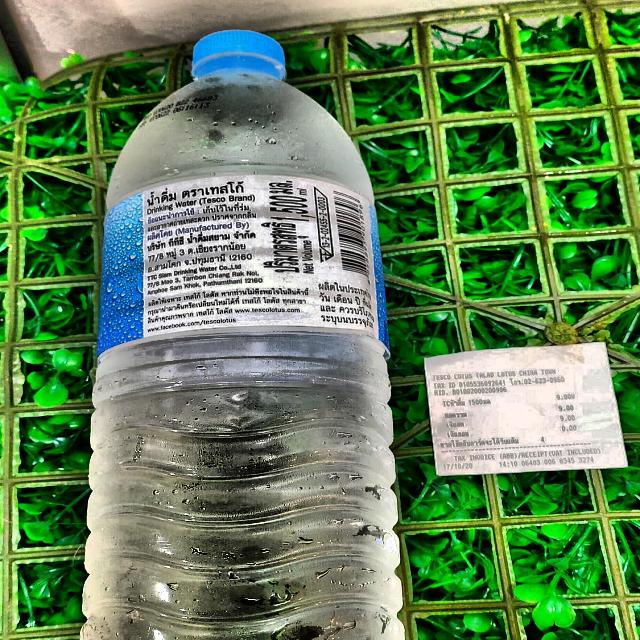Bottles: (77, 18, 424, 640)
